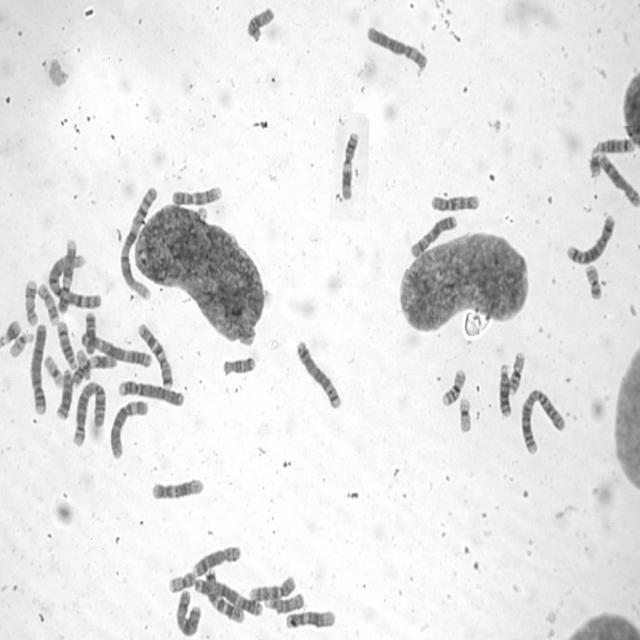A1: (117, 184, 159, 302), (46, 242, 102, 312)
A2: (518, 384, 566, 456), (70, 378, 108, 448)
A3: (193, 573, 264, 618), (79, 328, 153, 368)
B4: (116, 376, 185, 408), (28, 320, 48, 416)
B5: (295, 337, 342, 410), (564, 210, 617, 266)
C10: (247, 573, 296, 602), (428, 191, 480, 212)
C11: (70, 349, 118, 388), (339, 129, 361, 202)
C12: (150, 475, 204, 501), (283, 606, 336, 630)
C6: (363, 21, 429, 74), (107, 397, 149, 461)
C7: (135, 320, 174, 389), (204, 567, 246, 626)
C8: (596, 152, 640, 208), (191, 542, 242, 576)
C9: (56, 237, 77, 315), (170, 183, 222, 207)
D13: (54, 366, 74, 420), (497, 361, 513, 418)
D14: (55, 318, 77, 369), (591, 135, 635, 155)
D15: (247, 5, 274, 43), (263, 590, 305, 614)
E16: (440, 366, 468, 407), (506, 349, 526, 395)
E17: (36, 280, 60, 327), (22, 277, 40, 327)
E18: (220, 354, 256, 377), (80, 309, 98, 355)
F19: (43, 352, 64, 390), (457, 394, 473, 434)
F20: (584, 260, 604, 300), (167, 569, 196, 594)
G21: (0, 316, 23, 347), (587, 147, 601, 178)
G22: (46, 52, 72, 90), (8, 330, 34, 358)
X: (408, 211, 458, 259), (173, 587, 203, 637)
